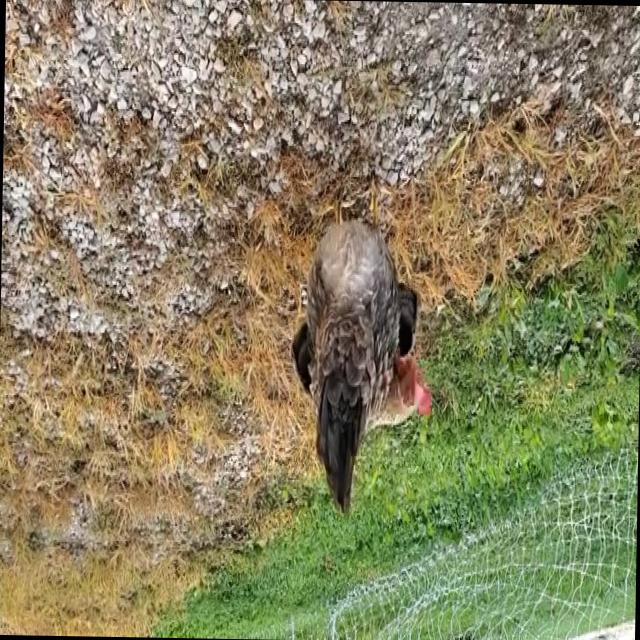self preening: (282, 180, 441, 521)
